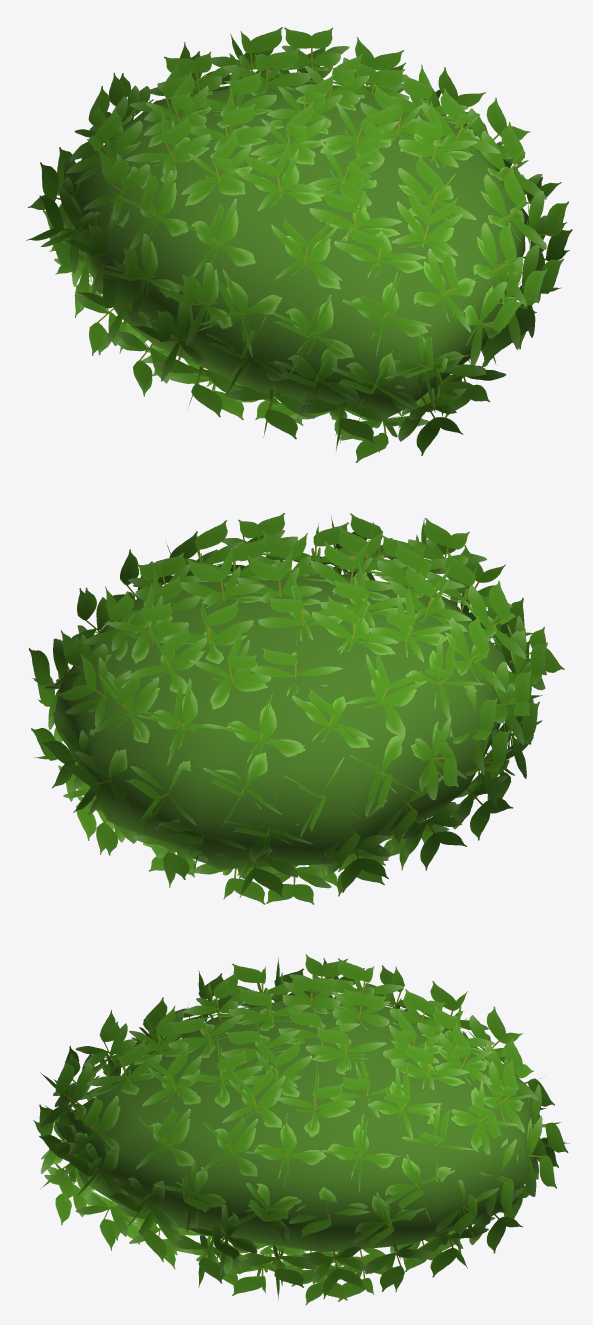
Rendered from Bladerentst.fbx.
3 renders of one model, top to bottom at view 1: azimuth 30°, elevation 25°; view 2: azimuth 150°, elevation 25°; view 3: azimuth 270°, elevation 25°, orthographic. The views are drawn at different scales.
Visible parts, largest first — view 1: BladerBase, side4, side2, bottom2, side3, side1, bottom1; view 2: BladerBase, side2, side1, side4, bottom1, side3, bottom2; view 3: BladerBase, side1, side3, bottom2, side2, bottom1, side4.
Part boxes in pixels (x1,y1,x2,y2): BladerBase: (64, 83, 525, 417); side4: (116, 101, 486, 462); side2: (26, 51, 342, 389); bottom2: (122, 118, 531, 427); side3: (321, 88, 572, 455); side1: (149, 27, 542, 364); bottom1: (57, 64, 478, 354); BladerBase: (53, 574, 505, 869); side2: (137, 539, 529, 904); side1: (29, 533, 310, 887); side4: (310, 518, 564, 843); bottom1: (58, 578, 493, 875); side3: (109, 512, 427, 620); bottom2: (161, 552, 530, 806); BladerBase: (69, 994, 540, 1252); side1: (222, 1009, 568, 1305); side3: (39, 1024, 287, 1299); bottom2: (52, 997, 300, 1271); side2: (228, 954, 569, 1251); bottom1: (240, 990, 533, 1272); side4: (33, 957, 282, 1244).
Size of the model in its own units: 8.38 by 5.63 by 10.12.
